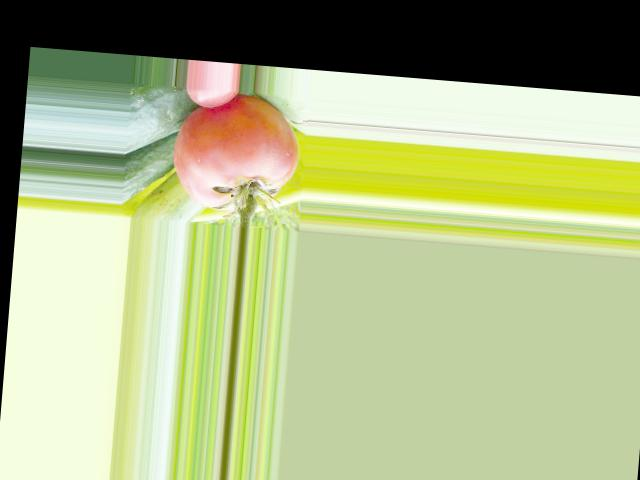tomato: (170, 88, 303, 214)
